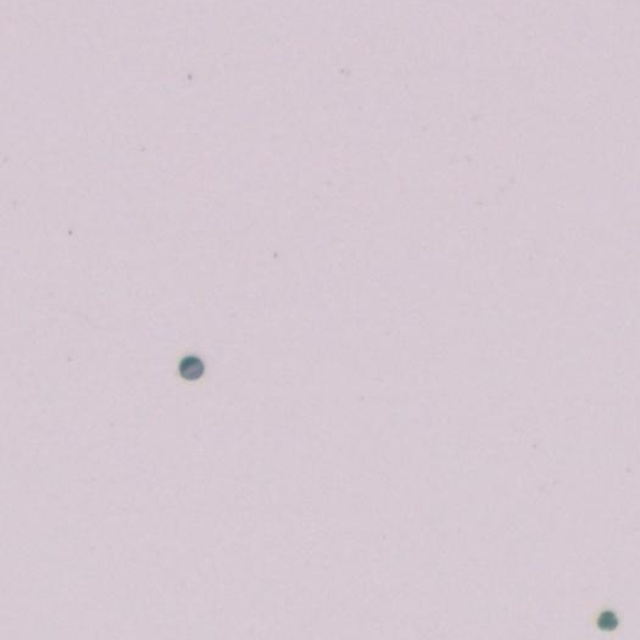non_viable: (179, 356, 204, 379), (597, 610, 618, 630)
